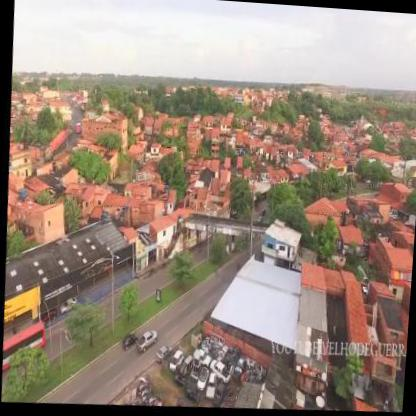lixo: (164, 334, 250, 406)
